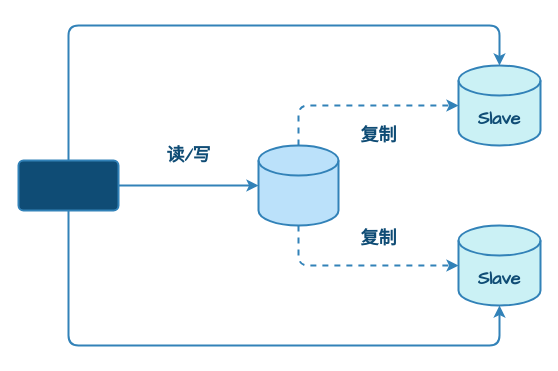
Image size: 558x371. Some labels were removed from this diagram. Each missing label, with the centre of its shape:
"Client" belongs at point (68, 185).
"Master" belongs at point (298, 185).
